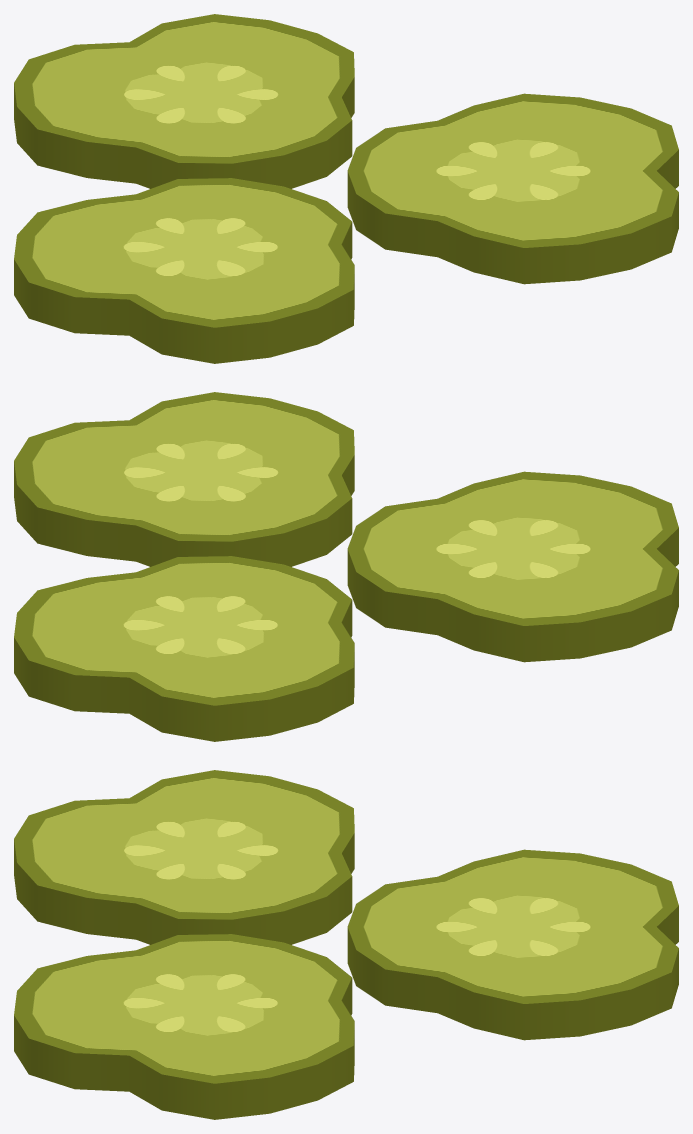
Rendered from Pickle_Slice_Pickles_0.glb.
3 renders of one model, top to bottom at view 1: azimuth 30°, elevation 25°; view 2: azimuth 150°, elevation 25°; view 3: azimuth 270°, elevation 25°, orthographic.
Parts seen in each view (by area): view 1: Pickle_Slice_Pickles_0; view 2: Pickle_Slice_Pickles_0; view 3: Pickle_Slice_Pickles_0.
Part boxes in pixels (left/top/right/bottom): Pickle_Slice_Pickles_0: left=14, top=14, right=678, bottom=363; Pickle_Slice_Pickles_0: left=14, top=392, right=678, bottom=741; Pickle_Slice_Pickles_0: left=14, top=770, right=678, bottom=1119.
Bounding box in the file's own units: 0.1863 × 0.01 × 0.1669.
Materials: 1 (1 with a texture image).
